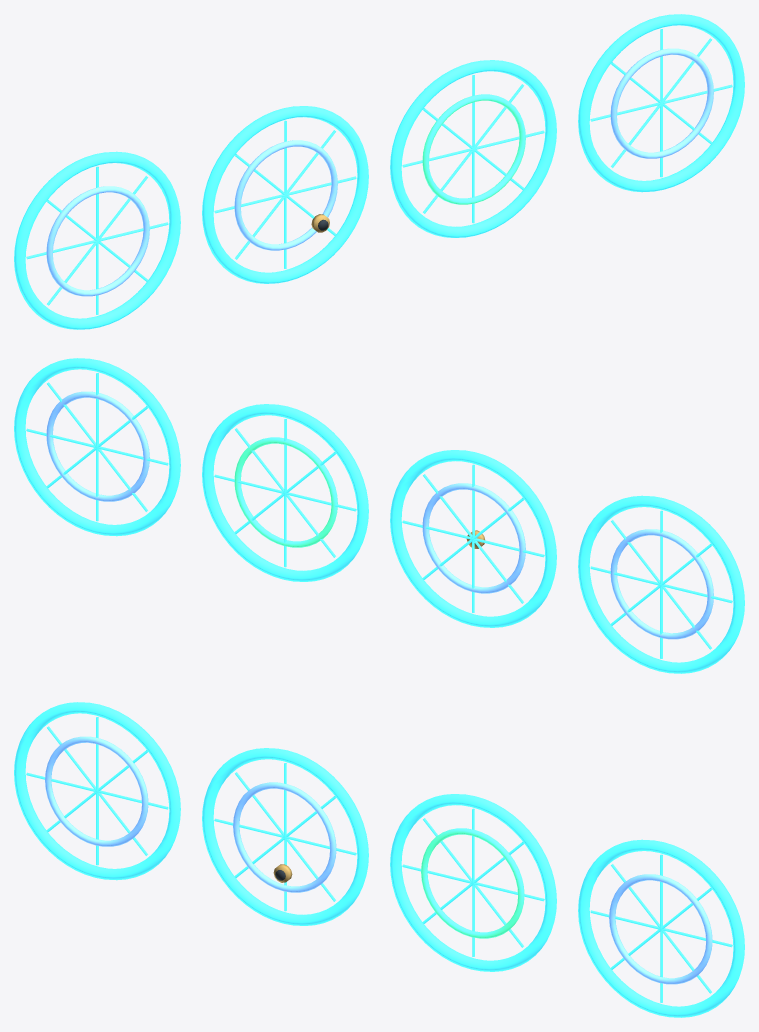
Rendered from 07_L88_FourCompartmentAtmosphereDigitalTwin.fbx.
3 views of the same model, one above another, from view 1: azimuth 30°, elevation 25°; view 2: azimuth 150°, elevation 25°; view 3: azimuth 330°, elevation 25° (orthographic).
Visible parts, largest first — view 1: L87_FourCompartmentAtmosphere_Part_0000, L87_FourCompartmentAtmosphere_Part_0001, L87_FourCompartmentAtmosphere_Part_0002, L87_FourCompartmentAtmosphere_Part_0003, L87_FourCompartmentAtmosphere_Part_0004; view 2: L87_FourCompartmentAtmosphere_Part_0000, L87_FourCompartmentAtmosphere_Part_0001, L87_FourCompartmentAtmosphere_Part_0002, L87_FourCompartmentAtmosphere_Part_0003, L87_FourCompartmentAtmosphere_Part_0004; view 3: L87_FourCompartmentAtmosphere_Part_0000, L87_FourCompartmentAtmosphere_Part_0001, L87_FourCompartmentAtmosphere_Part_0002, L87_FourCompartmentAtmosphere_Part_0003, L87_FourCompartmentAtmosphere_Part_0004.
Part boxes in pixels (x1,y1,x2,y2): L87_FourCompartmentAtmosphere_Part_0000: (14, 14, 744, 329); L87_FourCompartmentAtmosphere_Part_0001: (46, 48, 713, 296); L87_FourCompartmentAtmosphere_Part_0002: (26, 75, 544, 314); L87_FourCompartmentAtmosphere_Part_0003: (402, 29, 732, 223); L87_FourCompartmentAtmosphere_Part_0004: (422, 94, 525, 204); L87_FourCompartmentAtmosphere_Part_0000: (14, 358, 744, 673); L87_FourCompartmentAtmosphere_Part_0001: (46, 391, 713, 639); L87_FourCompartmentAtmosphere_Part_0002: (214, 419, 732, 658); L87_FourCompartmentAtmosphere_Part_0003: (26, 373, 356, 567); L87_FourCompartmentAtmosphere_Part_0004: (234, 437, 337, 547); L87_FourCompartmentAtmosphere_Part_0000: (14, 702, 744, 1017); L87_FourCompartmentAtmosphere_Part_0001: (45, 736, 712, 984); L87_FourCompartmentAtmosphere_Part_0002: (26, 717, 544, 911); L87_FourCompartmentAtmosphere_Part_0003: (402, 854, 732, 1002); L87_FourCompartmentAtmosphere_Part_0004: (421, 828, 524, 938).
Size of the model in its own units: 6.02 by 1.37 by 0.355.
